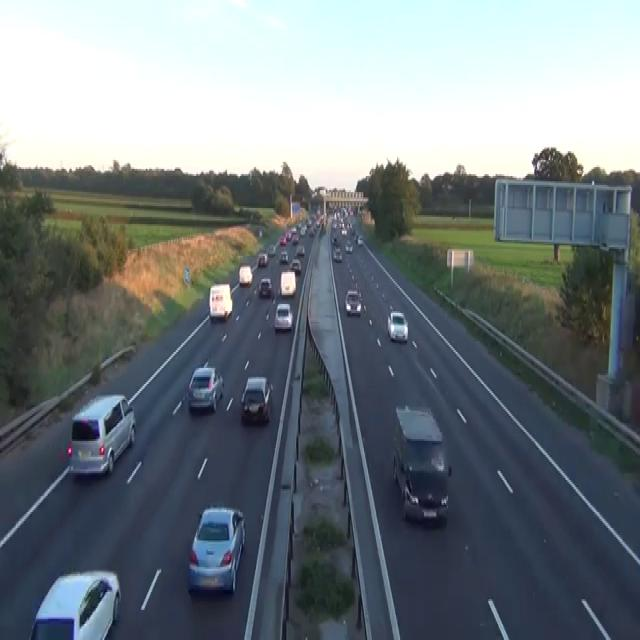Car: (392, 404, 452, 524), (28, 569, 121, 638), (67, 393, 136, 476), (186, 505, 246, 594), (187, 364, 223, 412), (239, 375, 272, 423), (387, 311, 408, 341), (274, 302, 293, 331), (344, 288, 362, 315), (238, 265, 252, 286), (259, 277, 272, 297), (257, 250, 268, 266), (290, 258, 301, 274), (332, 247, 342, 261), (279, 249, 288, 263), (344, 240, 353, 252), (267, 244, 276, 256), (295, 244, 304, 256), (285, 229, 292, 240), (299, 224, 306, 235), (331, 235, 338, 245), (279, 237, 286, 246), (357, 235, 363, 245), (292, 233, 298, 243), (309, 226, 316, 234), (290, 226, 297, 233), (353, 231, 358, 240), (340, 228, 346, 235), (258, 228, 262, 238)
Truck: (209, 283, 232, 320), (279, 270, 296, 297)
